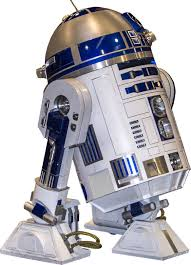r2d2: (1, 5, 188, 264)
